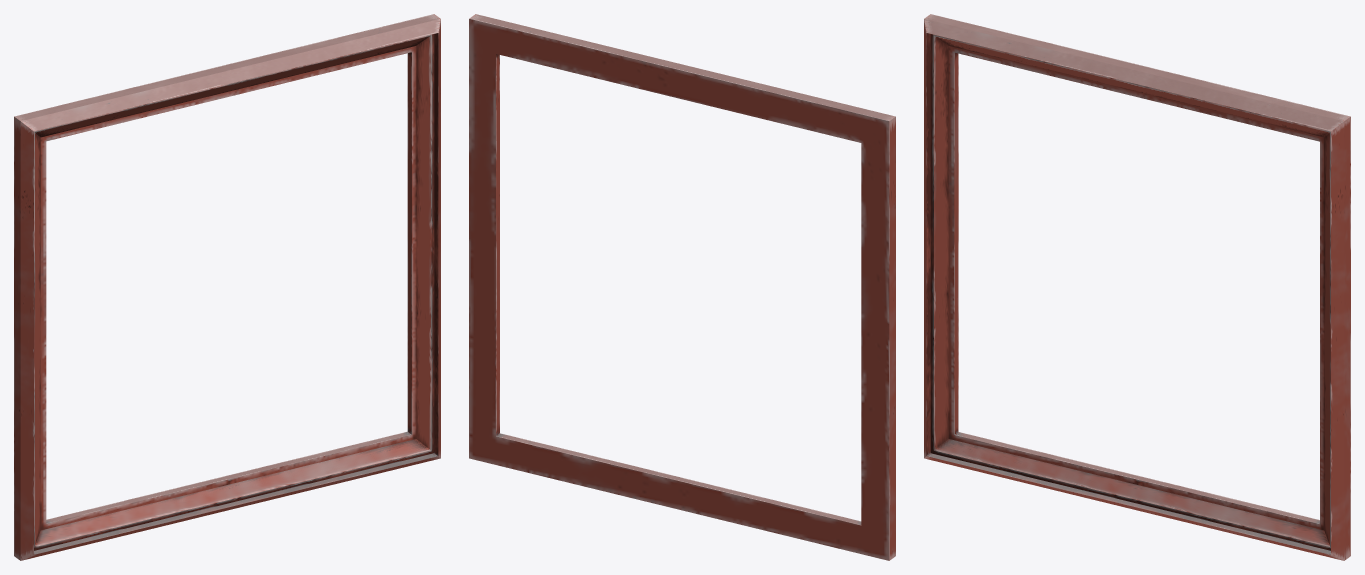
File: frame01.fbx
3 views of the same model, side by side, from view 1: azimuth 30°, elevation 25°; view 2: azimuth 150°, elevation 25°; view 3: azimuth 330°, elevation 25° (orthographic).
Visible parts, largest first — view 1: frames.01; view 2: frames.01; view 3: frames.01.
Boxes of the visible parts, bbox=[...] form: frames.01: bbox=[14, 14, 440, 560]; frames.01: bbox=[469, 14, 895, 560]; frames.01: bbox=[924, 14, 1350, 560].
Size of the model in its own units: 200 by 200 by 9.89.
